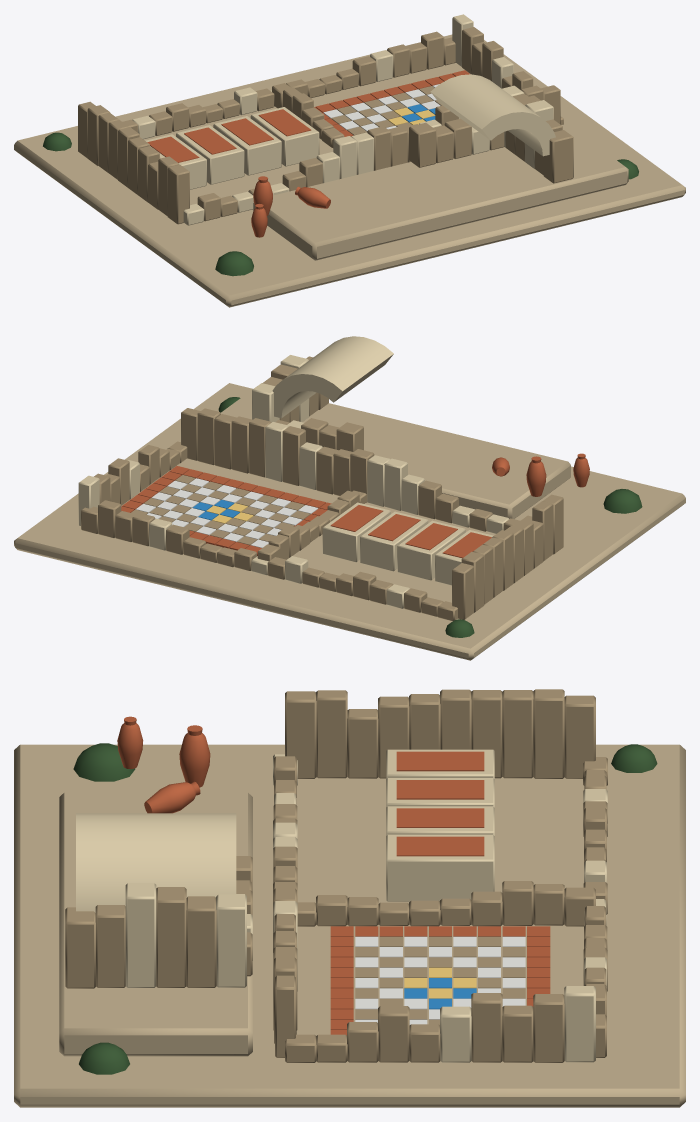
The model's file is Monument_Neapolis.fbx.
3 renders of one model, top to bottom at view 1: azimuth 30°, elevation 25°; view 2: azimuth 150°, elevation 25°; view 3: azimuth 270°, elevation 25°, orthographic. The views are drawn at different scales.
Visible parts, largest first — view 1: Monument_Neapolis; view 2: Monument_Neapolis; view 3: Monument_Neapolis.
Part boxes in pixels (x1=…): Monument_Neapolis: x1=14, y1=14, x2=685, y2=307; Monument_Neapolis: x1=14, y1=336, x2=685, y2=660; Monument_Neapolis: x1=14, y1=689, x2=685, y2=1107.
Size of the model in its own units: 3.2 by 0.7197 by 2.6.
